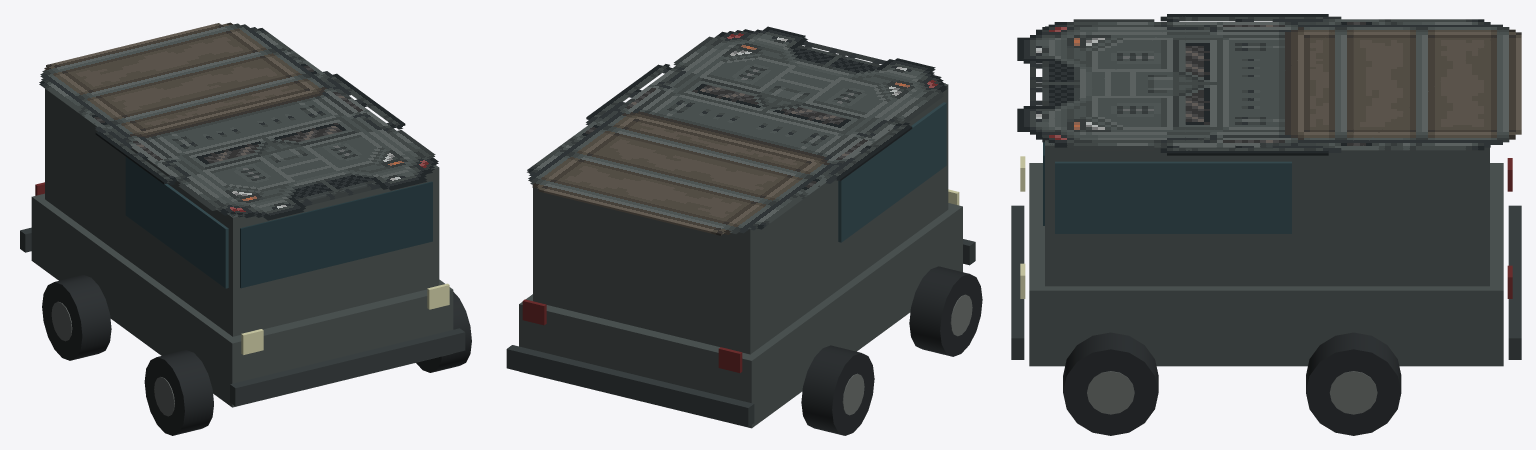
Rendered from CMU3DReduxVehicleHumveeTransport.glb.
3 renders of one model, left to right at view 1: azimuth 30°, elevation 25°; view 2: azimuth 150°, elevation 25°; view 3: azimuth 270°, elevation 25°, orthographic. The views are drawn at different scales.
Parts seen in each view (by area): view 1: source hull roof panel (×3), upper hull, closed lower chassis, cab windscreen, road tire (×3), cab side window, front bumper, wheel hub (×2), front light (×2); view 2: source hull roof panel (×3), upper hull, closed lower chassis, road tire (×2), cab side window, rear bumper, wheel hub (×2), rear marker (×2); view 3: source hull roof panel (×3), upper hull, closed lower chassis, cab side window, road tire (×2), wheel hub (×2), rear bumper, front bumper.
Part boxes in pixels (<box>): source hull roof panel (×3): <box>39,22,438,220</box>; upper hull: <box>45,89,439,336</box>; closed lower chassis: <box>31,193,453,407</box>; cab windscreen: <box>240,181,432,288</box>; road tire (×3): <box>42,275,471,435</box>; cab side window: <box>125,157,228,288</box>; front bumper: <box>230,328,465,406</box>; wheel hub (×2): <box>51,301,174,416</box>; front light (×2): <box>241,283,449,354</box>; source hull roof panel (×3): <box>527,26,947,235</box>; upper hull: <box>533,84,948,354</box>; closed lower chassis: <box>519,203,962,428</box>; road tire (×2): <box>801,266,982,435</box>; cab side window: <box>838,102,946,242</box>; rear bumper: <box>506,345,754,427</box>; wheel hub (×2): <box>842,294,972,415</box>; rear marker (×2): <box>522,299,742,372</box>; source hull roof panel (×3): <box>1017,14,1521,155</box>; upper hull: <box>1045,26,1489,286</box>; closed lower chassis: <box>1029,163,1503,366</box>; cab side window: <box>1055,161,1291,233</box>; road tire (×2): <box>1063,332,1401,435</box>; wheel hub (×2): <box>1087,371,1377,414</box>; rear bumper: <box>1508,205,1521,359</box>; front bumper: <box>1011,205,1024,359</box>.
Size of the model in its own units: 1.98 by 1.49 by 2.56.
Materials: 11 (3 with a texture image).
